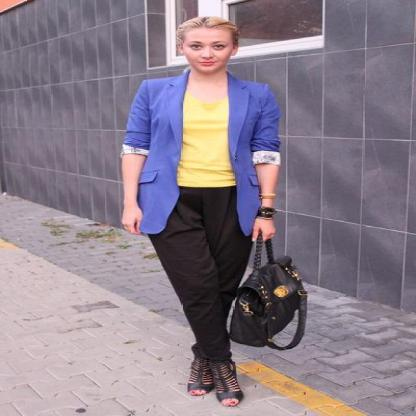bag: (217, 244, 307, 350)
jacket: (121, 75, 280, 247)
pants: (148, 185, 261, 372)
shirt: (177, 93, 235, 186)
shoe: (188, 355, 244, 406)
